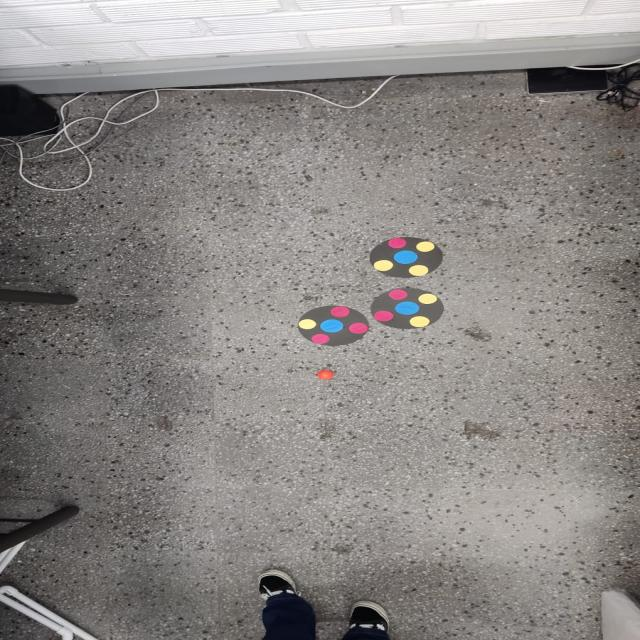0: (298, 304, 369, 346)
1: (369, 286, 446, 330)
2: (369, 236, 445, 278)
Ball: (316, 369, 335, 381)
